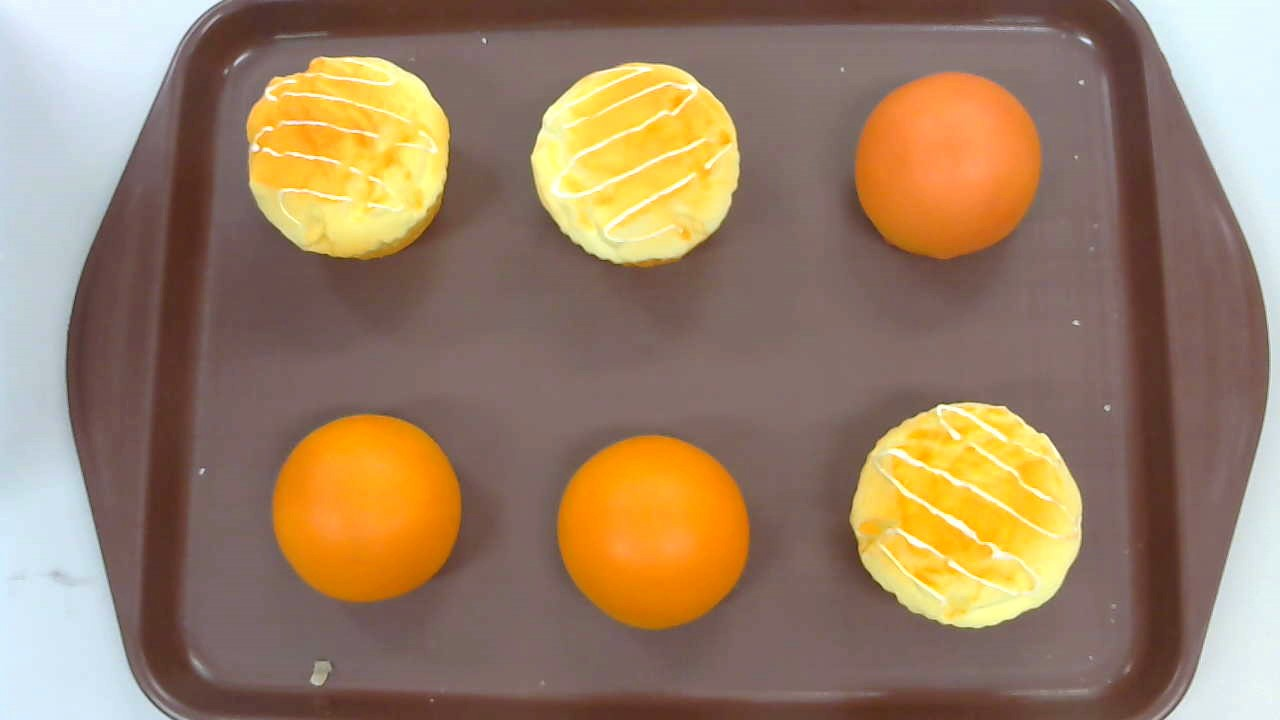bun: (556, 434, 749, 631), (272, 413, 461, 603), (853, 72, 1041, 259)
cupcake: (848, 402, 1083, 630), (531, 62, 741, 269), (245, 55, 451, 261)
